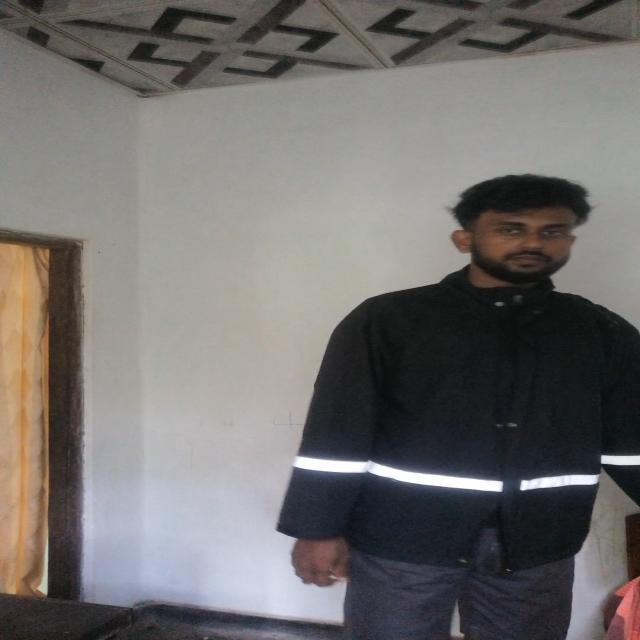Jacket_Wearer: (278, 261, 640, 610)
